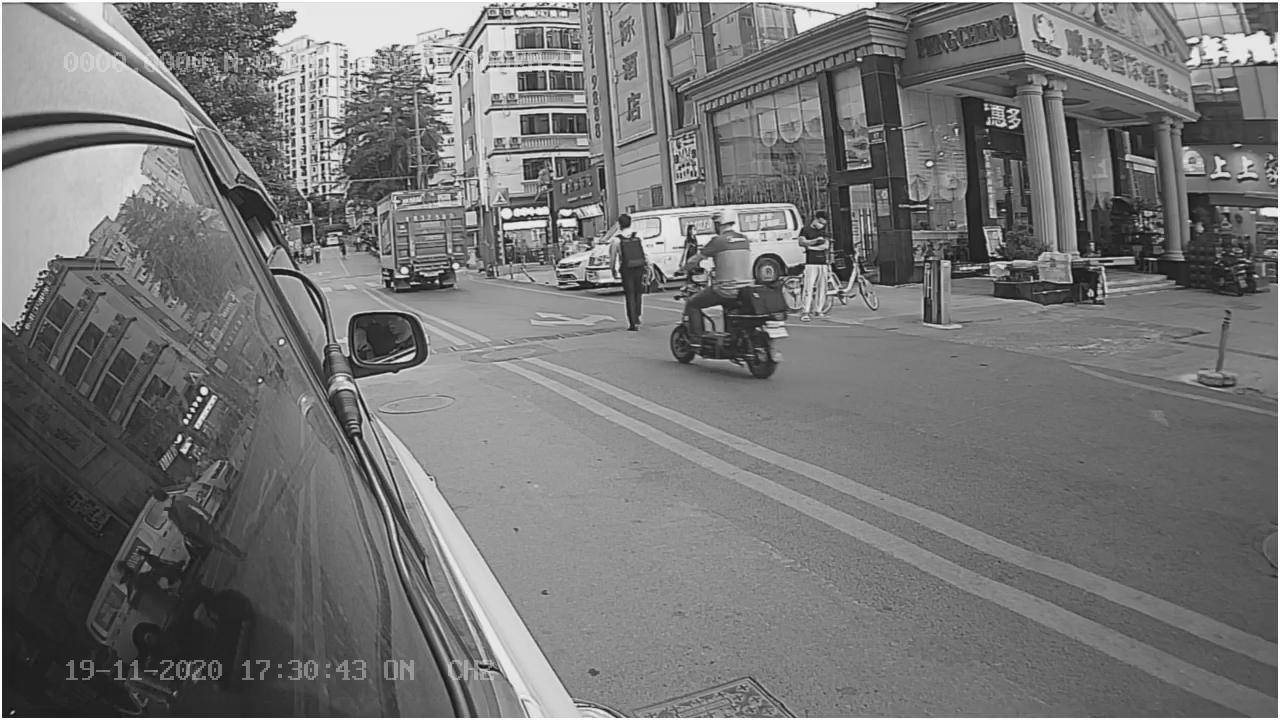person: (690, 205, 758, 282)
